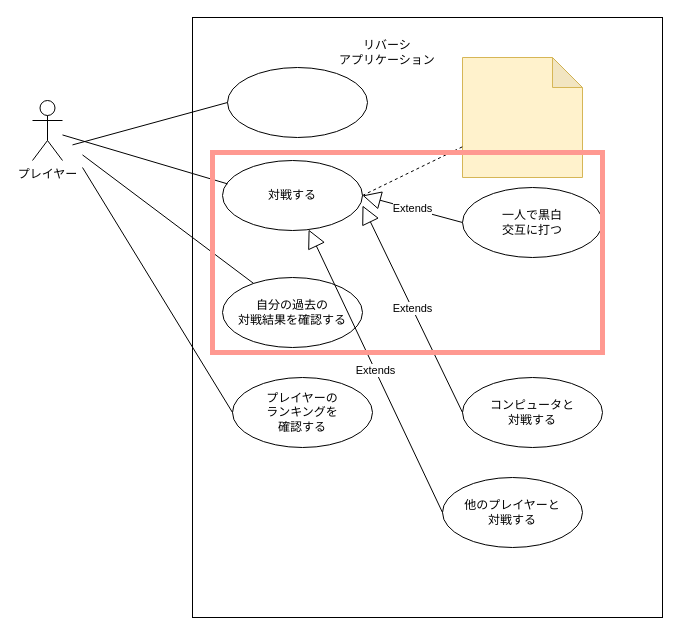
This 680x635 diagram has some shape labels left out. The centre of each missing label's shape, as x and y in pixels:
"・対戦を開始する ・盤面を打つ ・石を打つ ・勝敗を確認する" belongs at pixel 522 117.
"会員登録・ ログインする" belongs at pixel 297 102.
